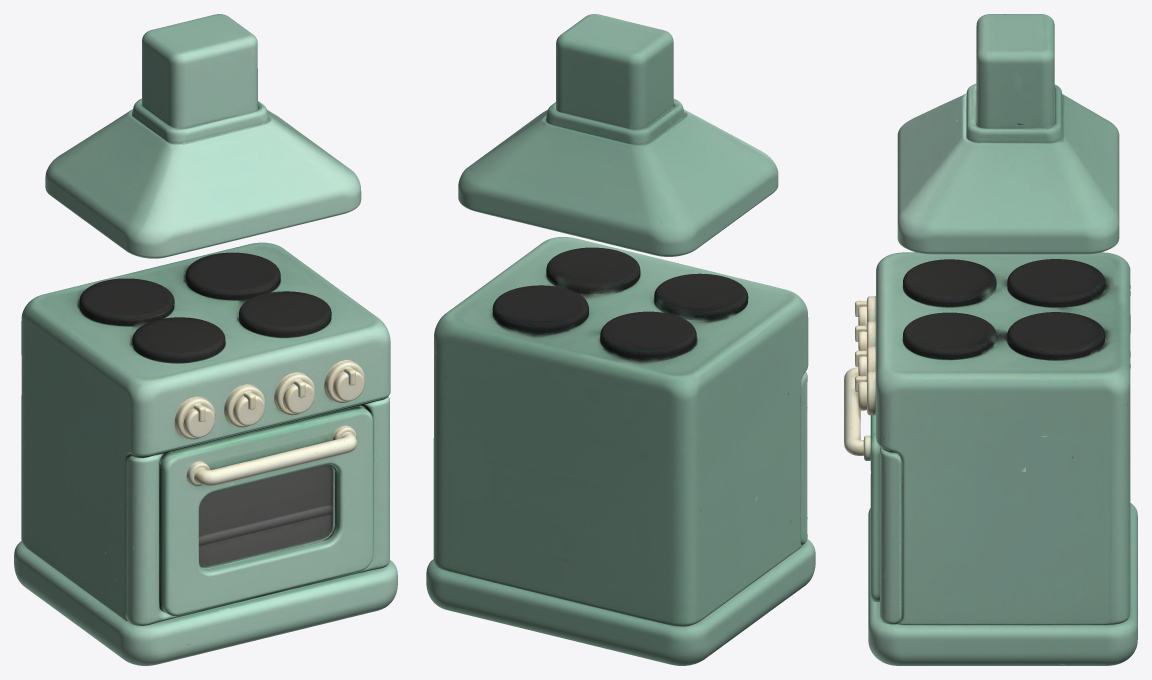
File: Stove.glb
The picture shows the model from 3 angles, left to right: view 1: azimuth 30°, elevation 25°; view 2: azimuth 150°, elevation 25°; view 3: azimuth 270°, elevation 25°; orthographic projection. The views are drawn at different scales.
Visible parts, largest first — view 1: node_0; view 2: node_0; view 3: node_0.
Part boxes in pixels (<box>): node_0: <box>14,14,397,665</box>; node_0: <box>426,14,815,665</box>; node_0: <box>844,14,1137,665</box>.
Size of the model in its own units: 0.5285 by 1.02 by 0.4781.
Materials: 1 (1 with a texture image).
